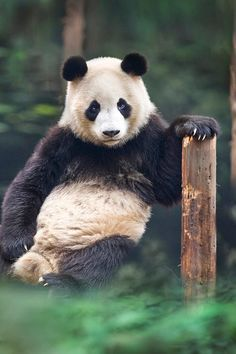panda: (13, 44, 225, 297)
